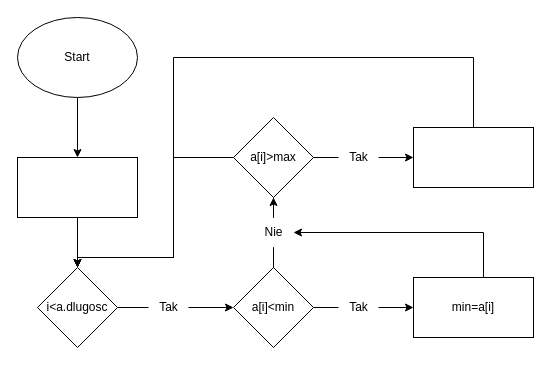
Image size: 551x365. Some labels were removed from this diagram. The box of each missing label's shape, as (x1, y1, x2, y2) in pixels:
max=a[i]: (412, 126, 534, 188)
pobierz a i=0 min=a[i] max=a[i]: (16, 156, 138, 218)
